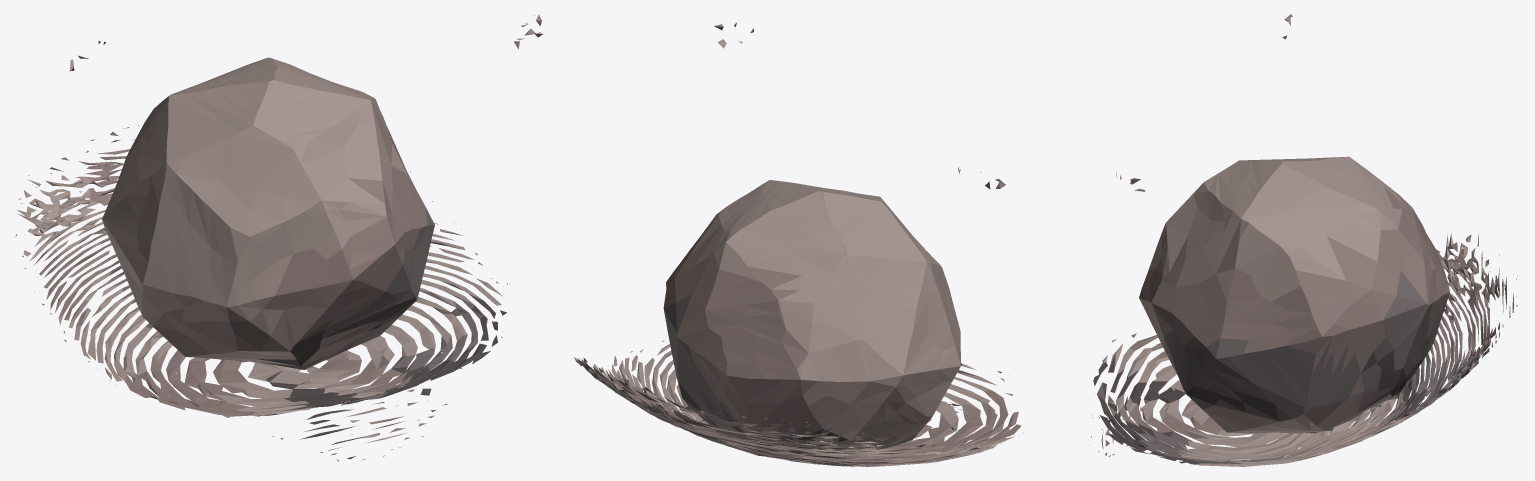
The model's file is rock.glb.
3 renders of one model, left to right at view 1: azimuth 30°, elevation 25°; view 2: azimuth 150°, elevation 25°; view 3: azimuth 270°, elevation 25°, orthographic. The views are drawn at different scales.
Visible parts, largest first — view 1: geometry_0; view 2: geometry_0; view 3: geometry_0.
Part boxes in pixels (left/top/right/bottom): geometry_0: left=15, top=14, right=542, bottom=461; geometry_0: left=574, top=22, right=1023, bottom=466; geometry_0: left=1088, top=14, right=1517, bottom=466.
Bounding box in the file's own units: 1.97 × 1.75 × 1.97.
